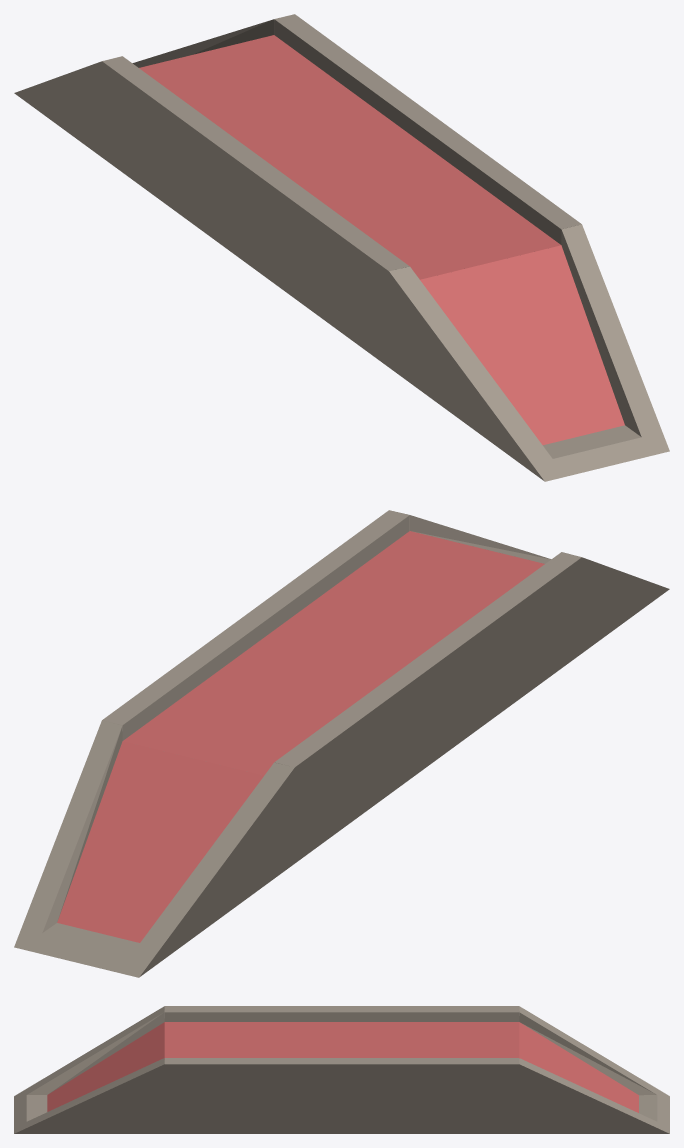
File: Aggressor.fbx
3 views of the same model, one above another, from view 1: azimuth 30°, elevation 25°; view 2: azimuth 150°, elevation 25°; view 3: azimuth 270°, elevation 25° (orthographic). The views are drawn at different scales.
Visible parts, largest first — view 1: Aggressor; view 2: Aggressor; view 3: Aggressor.
Part boxes in pixels (x1,y1,x2,y2): Aggressor: [14, 14, 669, 481]; Aggressor: [14, 510, 669, 977]; Aggressor: [14, 1006, 669, 1133].
Bounding box in the file's own units: 7 × 4.49 × 33.37.
